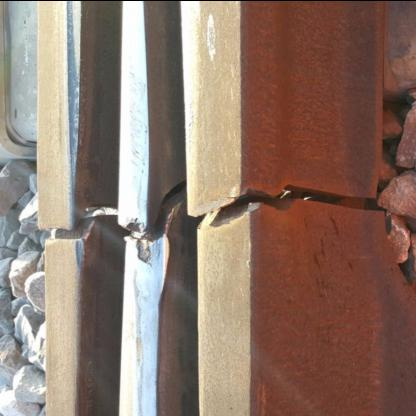Defective 2: (177, 116, 414, 398), (110, 138, 196, 288), (30, 168, 113, 286)
